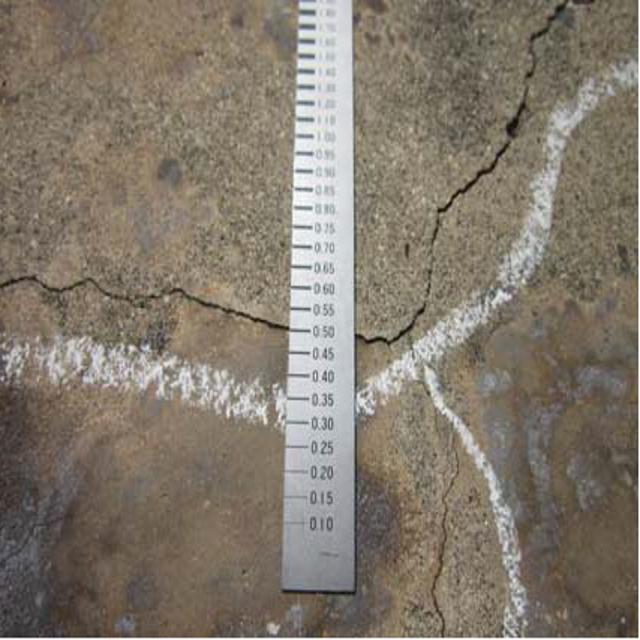crack: (358, 1, 578, 363), (3, 264, 296, 362)
